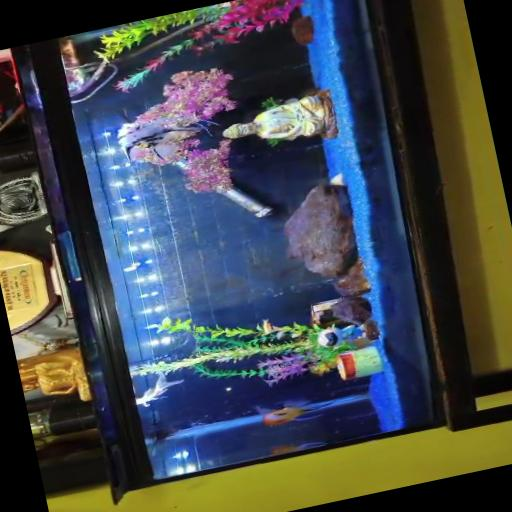Fish: (117, 115, 218, 159), (256, 399, 336, 425), (136, 372, 184, 406), (271, 441, 328, 455)
